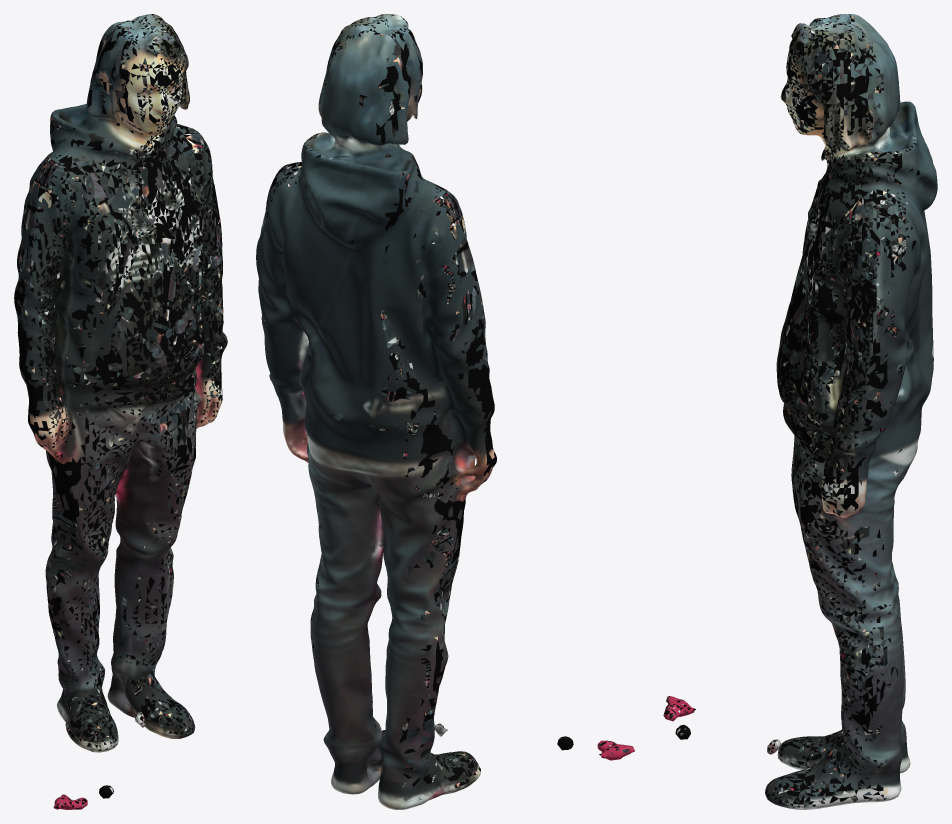
Rendered from myscan.glb.
The picture shows the model from 3 angles, left to right: view 1: azimuth 30°, elevation 25°; view 2: azimuth 150°, elevation 25°; view 3: azimuth 270°, elevation 25°; orthographic projection. The views are drawn at different scales.
Visible parts, largest first — view 1: model; view 2: model; view 3: model.
Part boxes in pixels (left/top/right/bottom): model: left=14, top=14, right=227, bottom=809; model: left=256, top=14, right=634, bottom=809; model: left=663, top=14, right=937, bottom=809.
Size of the model in its own units: 0.6722 by 1.76 by 0.5609.
Materials: 1 (1 with a texture image).
